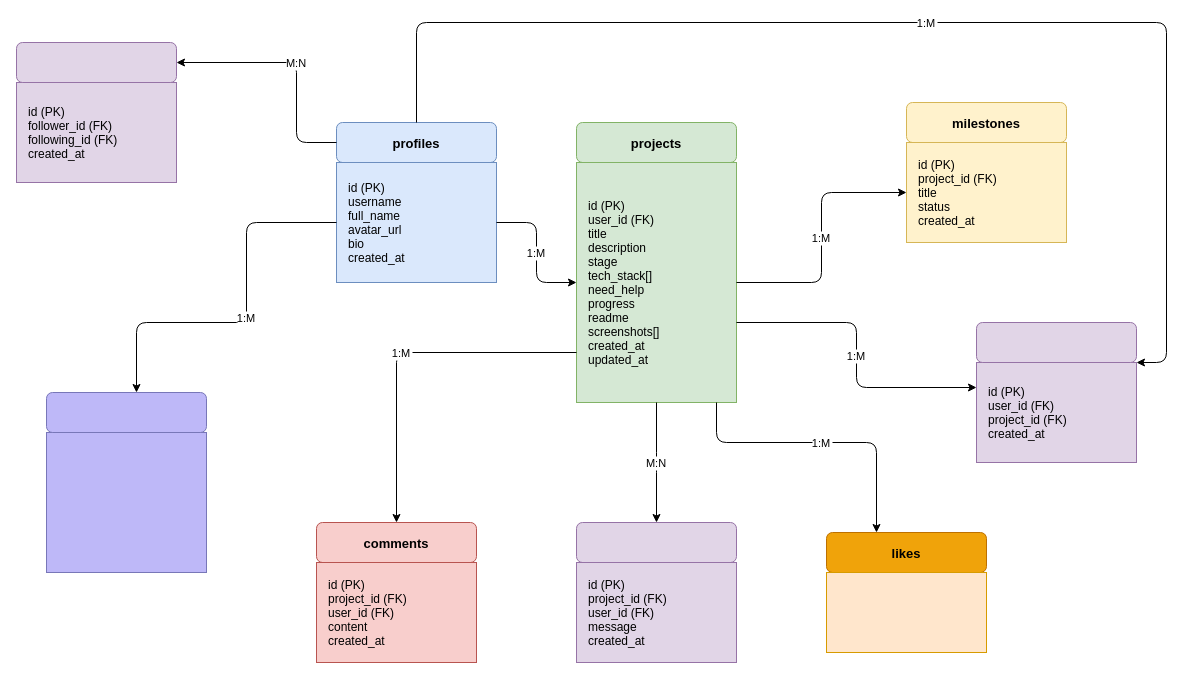
Some shapes in this 1183 by 679 pixel diagram are drawn without their labels. The shapes that lost their labels are listed below. From the top down, each one's box as (x1, y1, x2, y2) in pixels, then its label:
(16, 42, 176, 82): follows
(976, 322, 1136, 362): saved_projects
(46, 392, 206, 432): notifications
(46, 432, 206, 572): id (PK) user_id (FK) from_user_id (FK) type project_id (FK) read created_at
(576, 522, 736, 562): collaborations
(826, 572, 986, 652): id (PK) project_id (FK) user_id (FK) created_at
